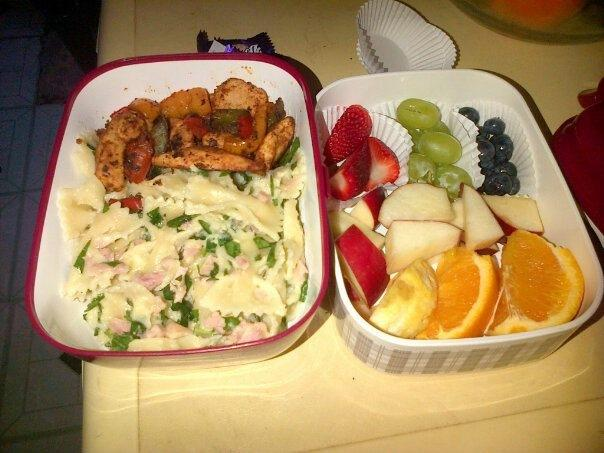apple: (334, 223, 390, 308), (385, 220, 464, 275), (378, 184, 452, 231), (463, 184, 505, 250), (482, 194, 544, 236), (327, 210, 385, 252), (350, 186, 386, 231), (449, 199, 465, 231)
blueberry: (482, 172, 512, 196), (490, 134, 514, 162), (476, 141, 496, 163), (459, 106, 480, 126), (484, 117, 505, 135), (495, 162, 517, 176), (481, 164, 498, 180), (508, 176, 520, 194), (476, 135, 490, 143)
grape: (433, 164, 472, 202), (396, 98, 442, 130), (418, 132, 462, 164), (407, 152, 437, 182), (419, 120, 452, 135), (407, 129, 422, 153)
orange: (500, 229, 586, 331), (414, 247, 500, 340), (367, 259, 439, 339)
strawberry: (322, 104, 372, 167), (330, 139, 372, 200), (364, 137, 400, 192)
